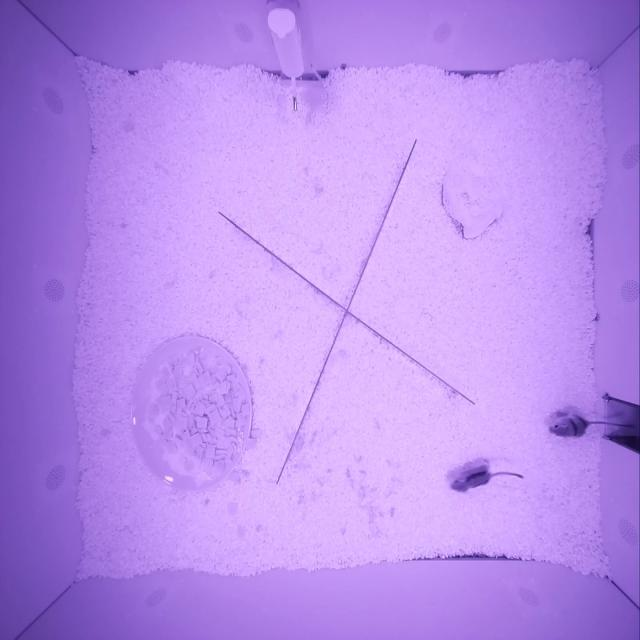pup_h_stripe: (549, 415, 588, 437)
pup_v_stripe: (450, 468, 490, 493)
